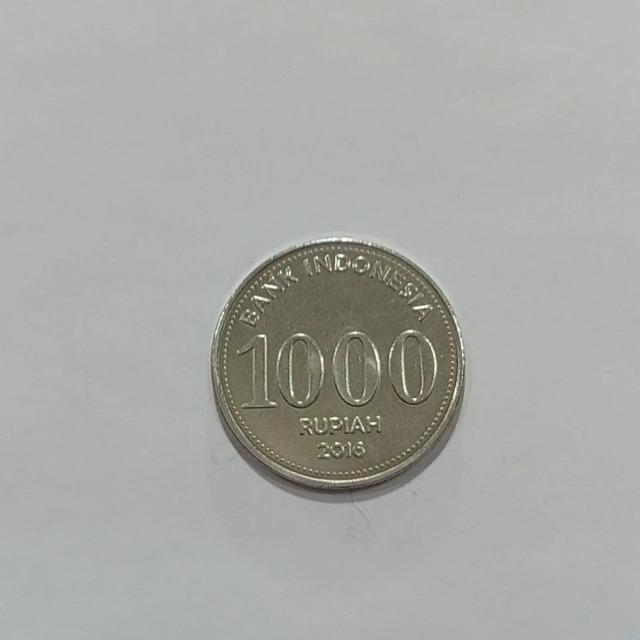Rp100: (208, 235, 466, 492)
